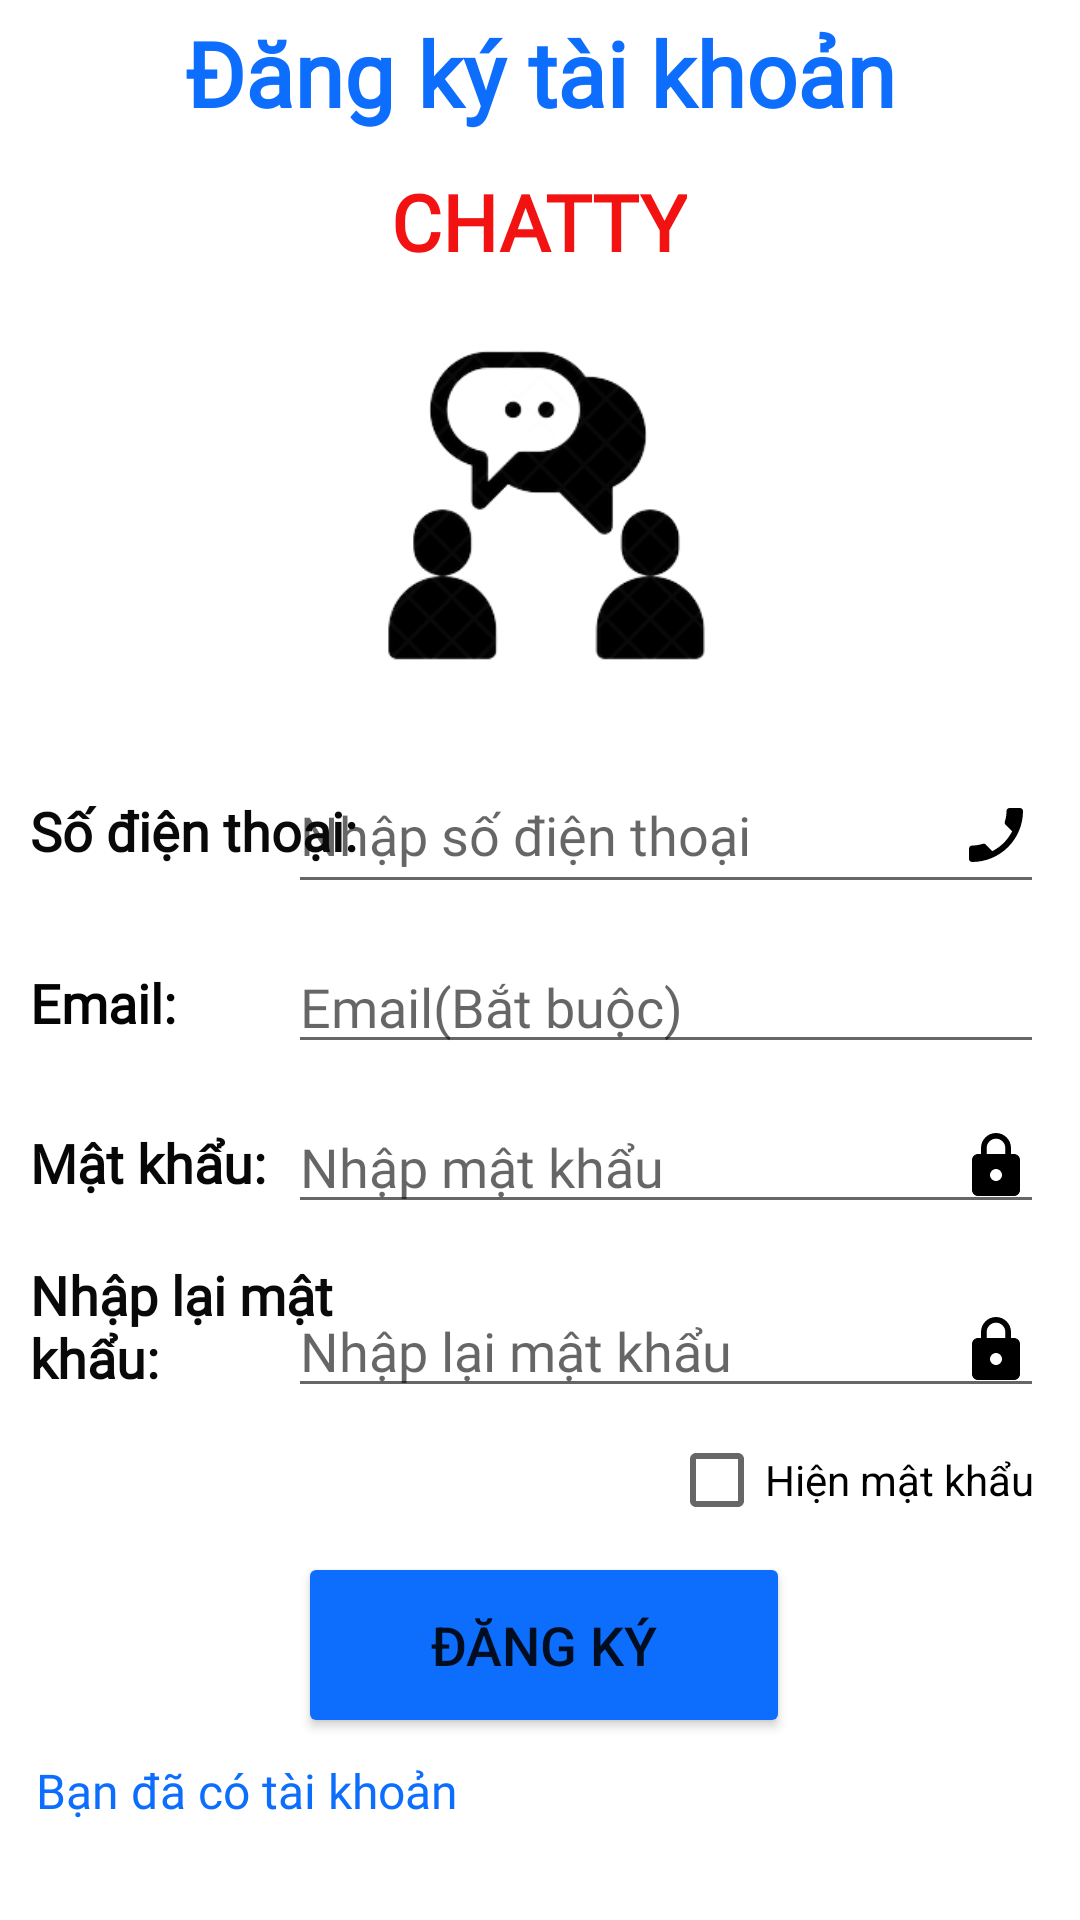

Icon bounding boxes for this 1080w x 1920h phone screenshot, format (x1, y1, x2, y2):
iconchatmain: (388, 351, 705, 660)
